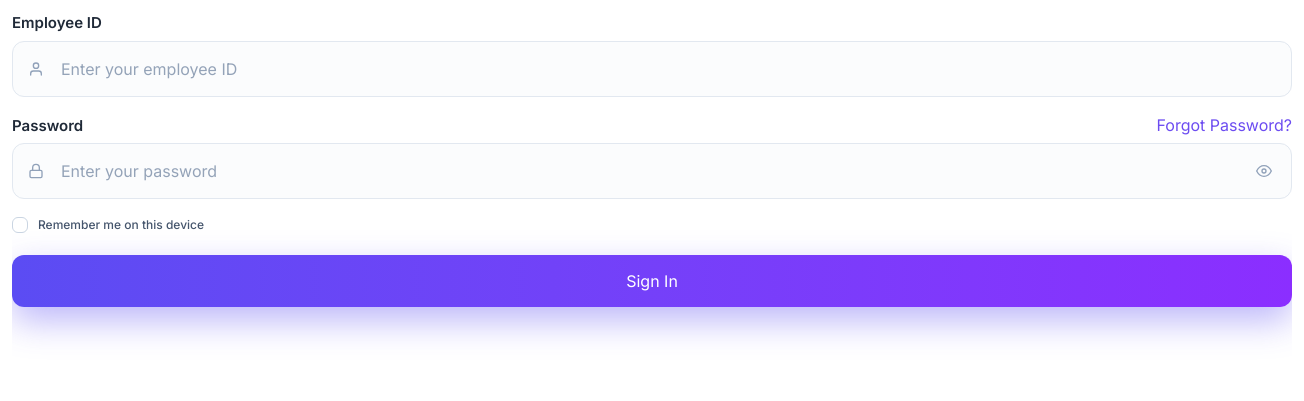
LoginForm › shows validation error when employee ID is empty on submit
Click the button "Sign In". click: (652, 281)
box: [12,255,1292,307]
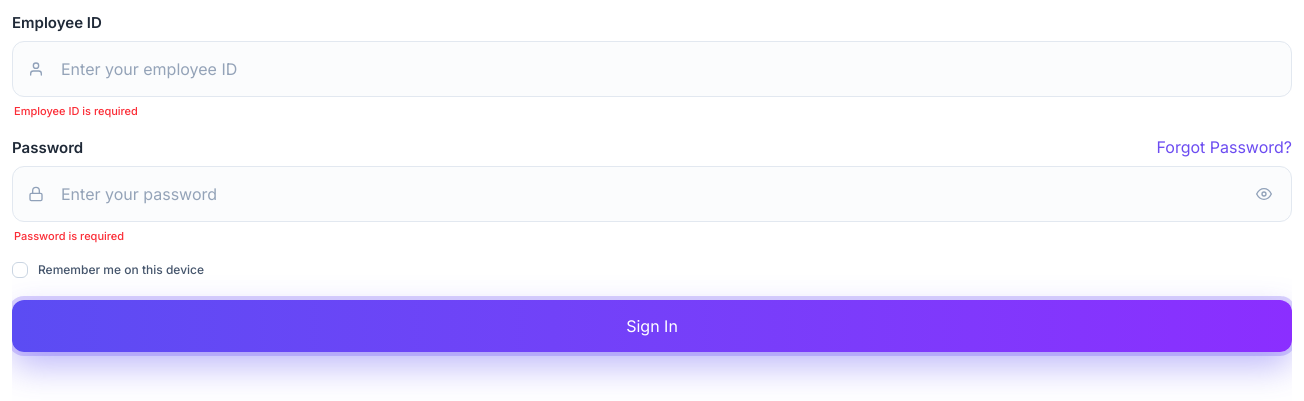
Expected: the text "Employee ID is required" is shown, [14,104,138,118]
